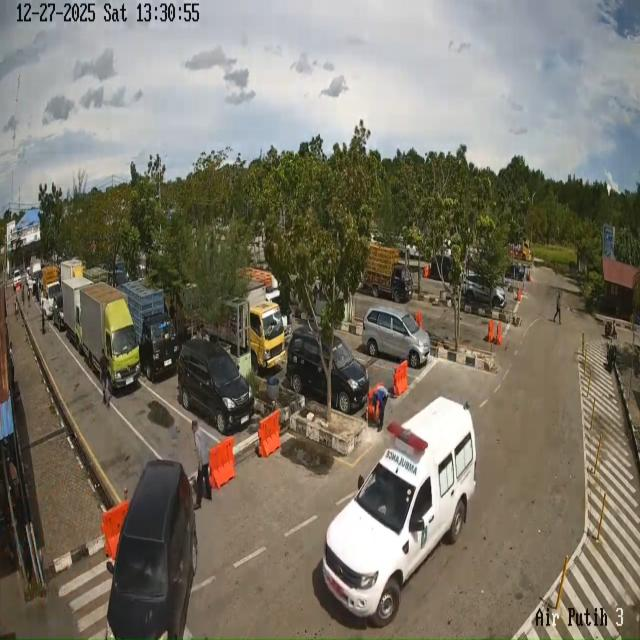Golongan IVA: (322, 396, 477, 627), (106, 460, 198, 640), (177, 338, 255, 435), (286, 326, 370, 414), (362, 306, 431, 368), (462, 272, 506, 309)
Golongan IVB: (119, 281, 179, 382), (362, 243, 413, 303), (40, 265, 61, 319)
Golongan VB: (80, 283, 140, 392), (62, 276, 93, 352)
